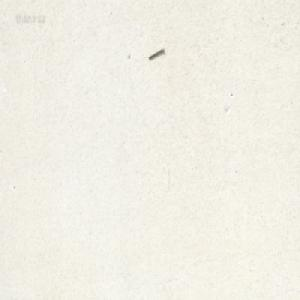Bolt: (148, 48, 164, 60)
